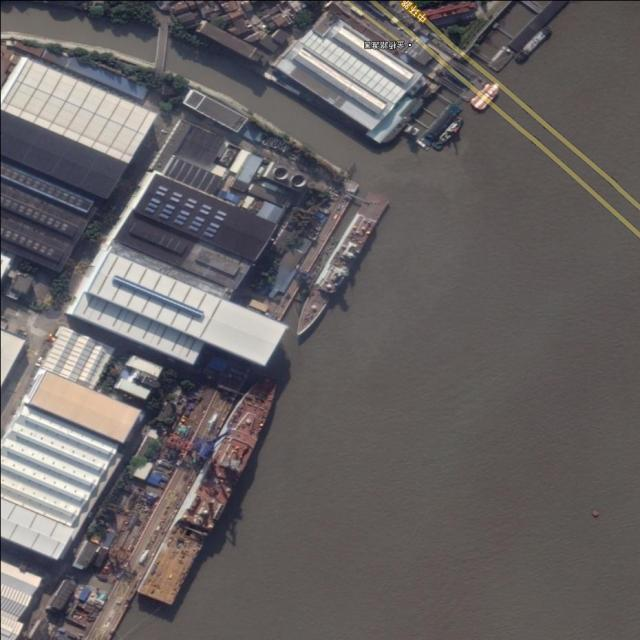Landing: (136, 368, 282, 610)
Other Warship: (287, 189, 392, 341)
